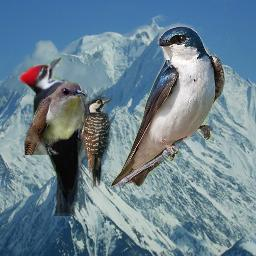Cuckoo: (24, 82, 88, 155)
Swallow: (110, 24, 226, 189)
Woodpecker: (16, 56, 106, 216), (73, 98, 114, 192)
